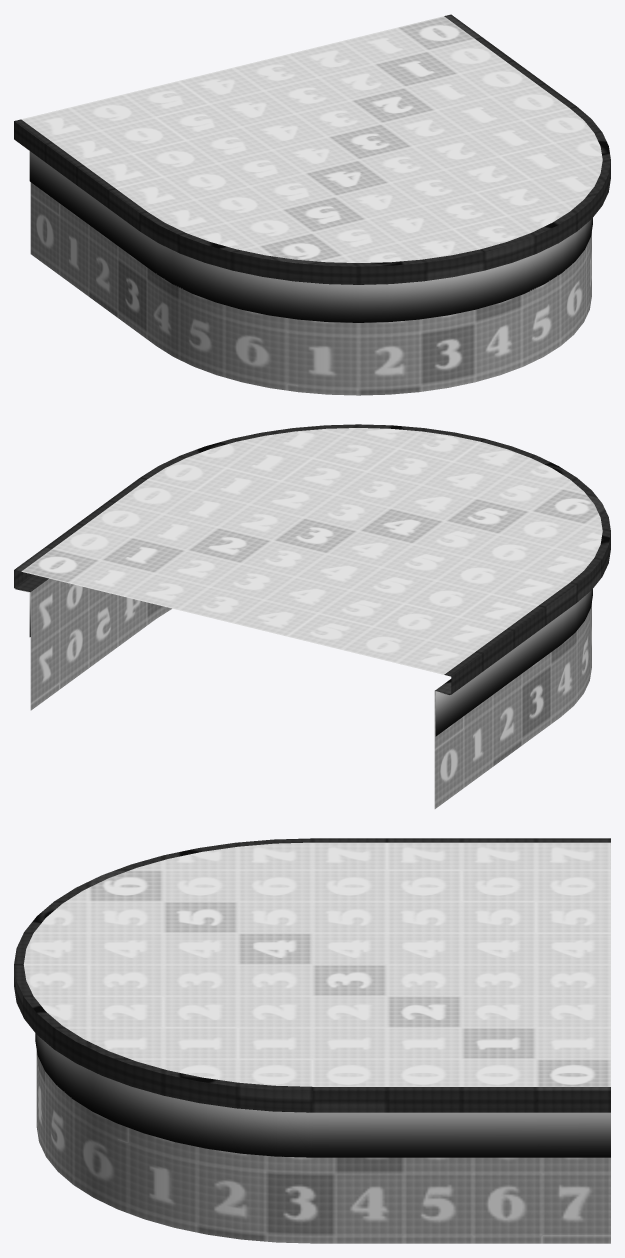
Rendered from Podium01_2.FBX.
The picture shows the model from 3 angles, top to bottom: view 1: azimuth 30°, elevation 25°; view 2: azimuth 150°, elevation 25°; view 3: azimuth 270°, elevation 25°; orthographic projection. The views are drawn at different scales.
Visible parts, largest first — view 1: Podium, Backlight; view 2: Podium, Backlight; view 3: Podium, Backlight.
Part boxes in pixels (x1=…): Podium: x1=14, y1=14, x2=610, y2=395; Backlight: x1=29, y1=151, x2=592, y2=322; Podium: x1=14, y1=424, x2=610, y2=808; Backlight: x1=15, y1=588, x2=592, y2=736; Podium: x1=14, y1=838, x2=610, y2=1243; Backlight: x1=35, y1=1033, x2=610, y2=1157.
Bounding box in the file's own units: 250 × 75 × 250.
